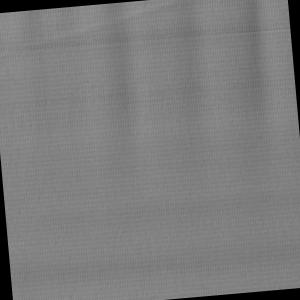Wrinkle: (212, 1, 300, 155), (1, 1, 208, 63)
